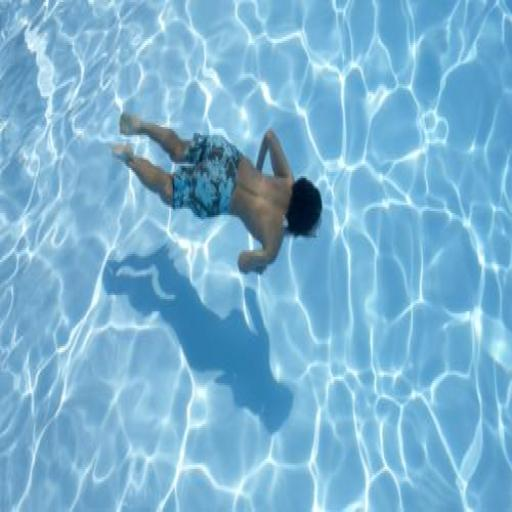swimming: (108, 104, 324, 278)
